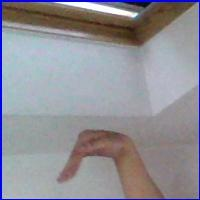del: (54, 124, 139, 187)
